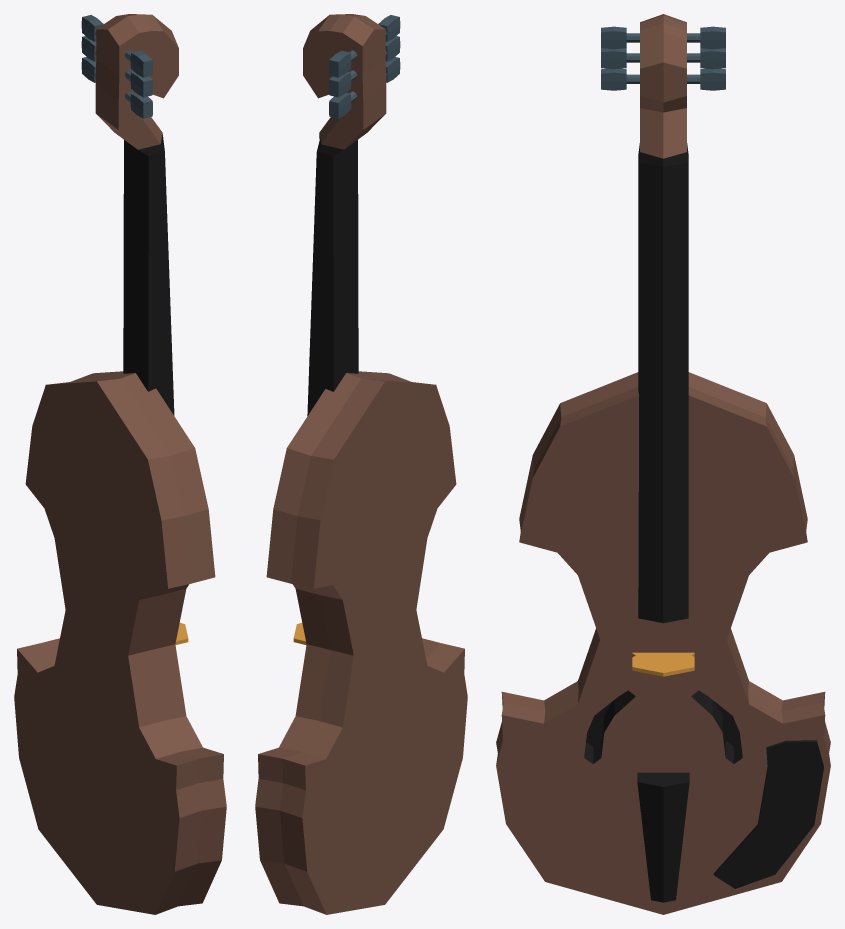
3 views of the same model, side by side, from view 1: azimuth 30°, elevation 25°; view 2: azimuth 150°, elevation 25°; view 3: azimuth 270°, elevation 25° (orthographic).
Parts seen in each view (by area): view 1: Violin_Circle.005; view 2: Violin_Circle.005; view 3: Violin_Circle.005.
Part boxes in pixels (<box>): Violin_Circle.005: <box>14,14,226,914</box>; Violin_Circle.005: <box>255,14,467,914</box>; Violin_Circle.005: <box>496,14,830,914</box>.
Size of the model in its own units: 1.66 by 15.78 by 5.37.
